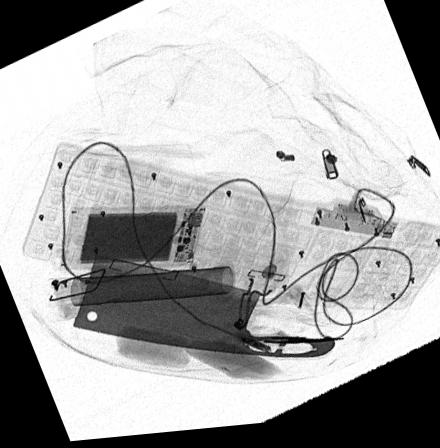Knife: (70, 251, 335, 362)
Powerbank: (60, 204, 209, 272)
Scissors: (239, 332, 347, 355)
